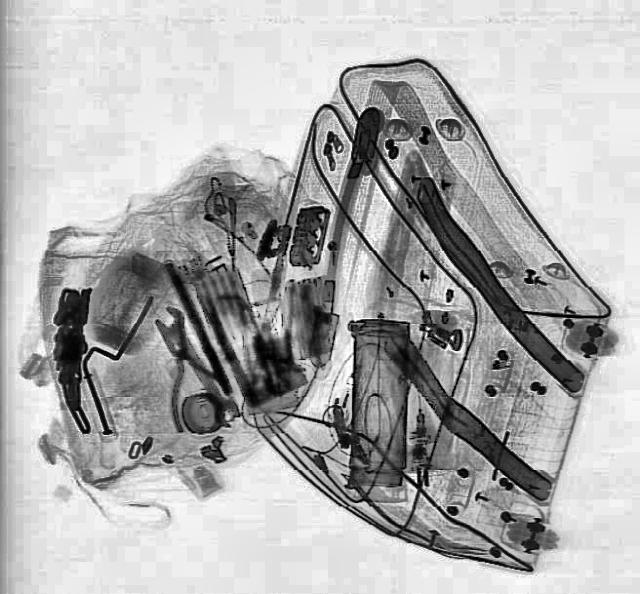Pliers: (126, 318, 238, 432)
Wrench: (144, 301, 246, 426)
